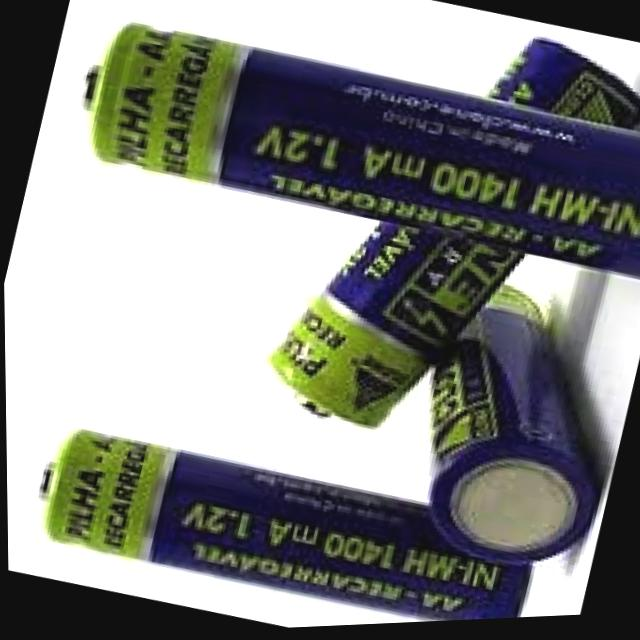B3: (51, 0, 640, 331), (5, 384, 563, 640)
